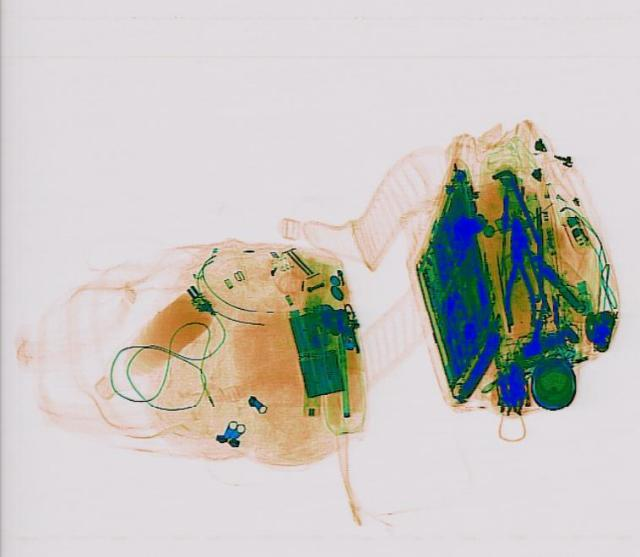Pliers: (498, 217, 538, 324)
